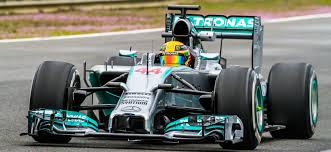f1_car: (15, 1, 326, 152)
